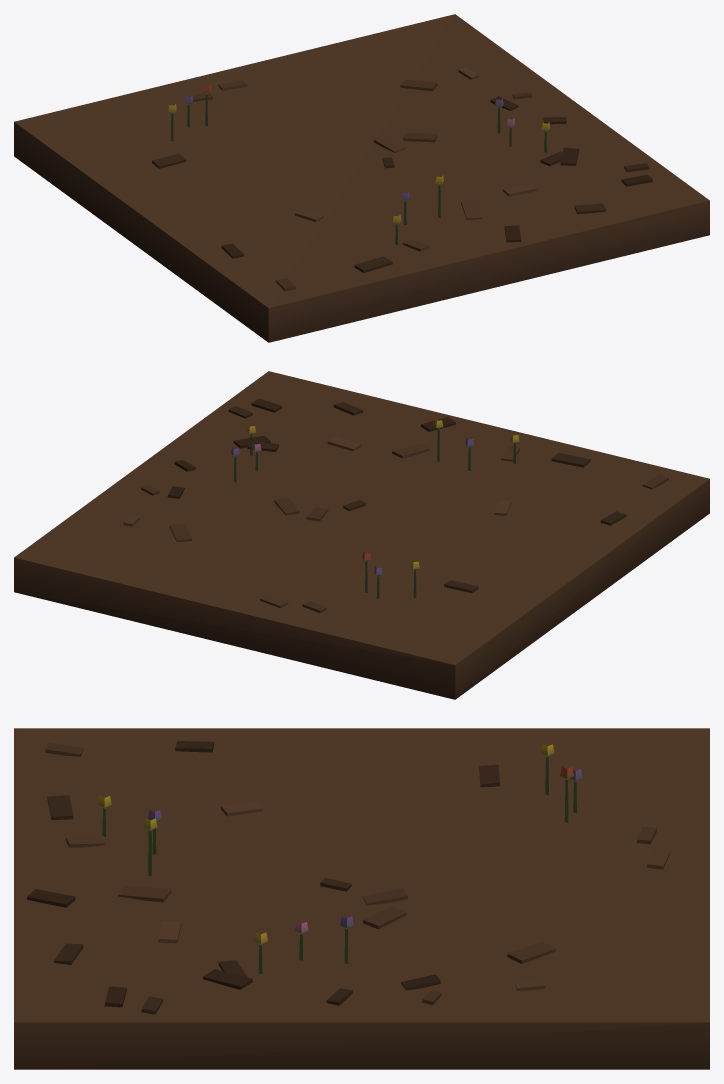
The model's file is mulch-bed-tile.glb.
The picture shows the model from 3 angles, top to bottom: view 1: azimuth 30°, elevation 25°; view 2: azimuth 150°, elevation 25°; view 3: azimuth 270°, elevation 25°; orthographic projection. The views are drawn at different scales.
Parts seen in each view (by area): view 1: mulch_bed_tile; view 2: mulch_bed_tile; view 3: mulch_bed_tile.
Boxes of the visible parts, x1=… form: mulch_bed_tile: x1=14, y1=14, x2=709, y2=342; mulch_bed_tile: x1=14, y1=371, x2=709, y2=699; mulch_bed_tile: x1=14, y1=728, x2=709, y2=1069.
Bounding box in the file's own units: 4 × 0.6639 × 4.
